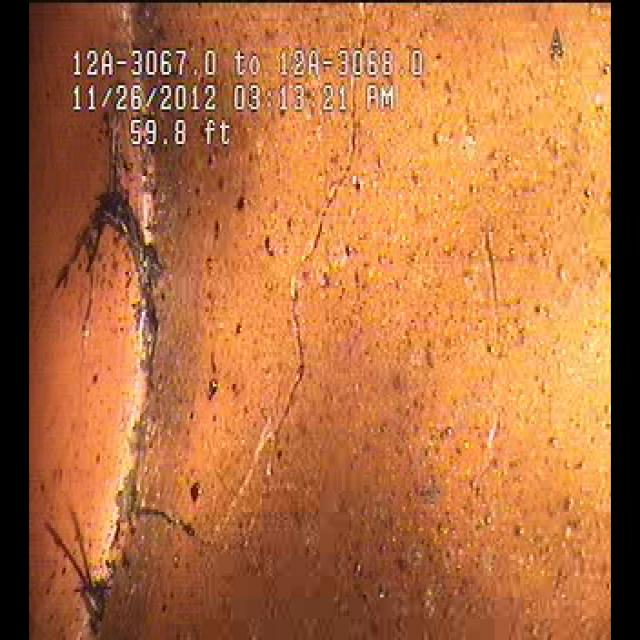Crack: (199, 168, 379, 576)
